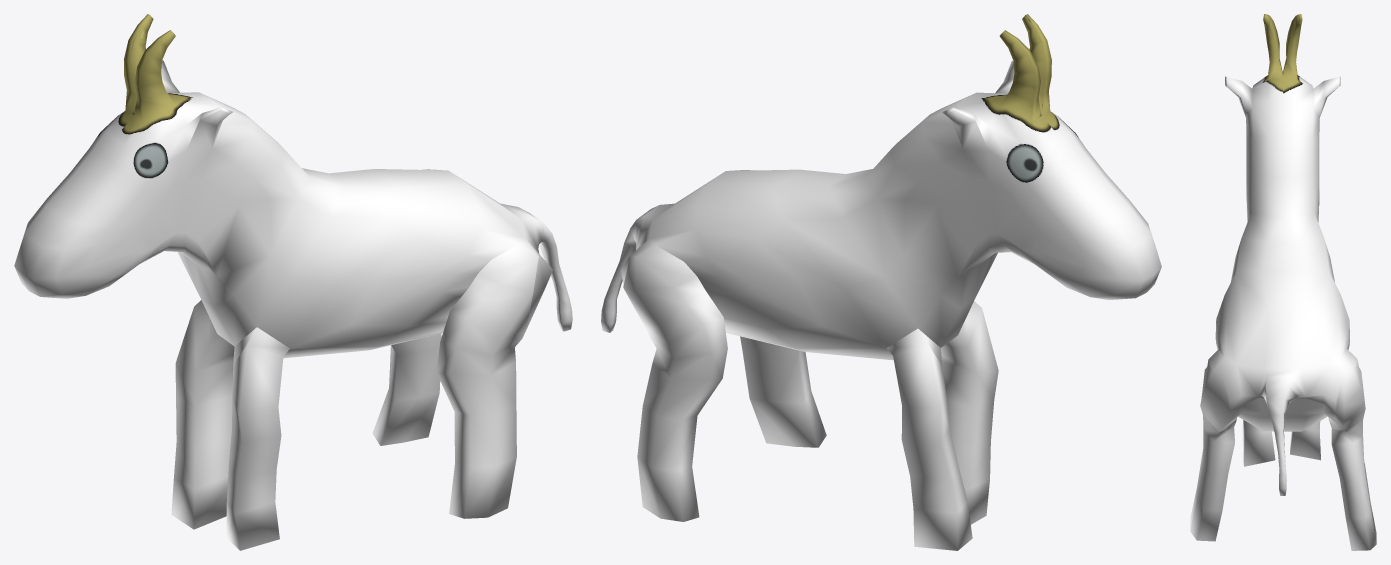
File: goatAnim_000002.obj
3 renders of one model, left to right at view 1: azimuth 30°, elevation 25°; view 2: azimuth 150°, elevation 25°; view 3: azimuth 270°, elevation 25°, orthographic. The views are drawn at different scales.
Parts seen in each view (by area): view 1: Cube; view 2: Cube; view 3: Cube.
Part boxes in pixels (<box>): Cube: <box>14,14,572,550</box>; Cube: <box>601,14,1161,550</box>; Cube: <box>1190,14,1376,550</box>.
Bounding box in the file's own units: 1.31 × 1.2 × 0.4842.
